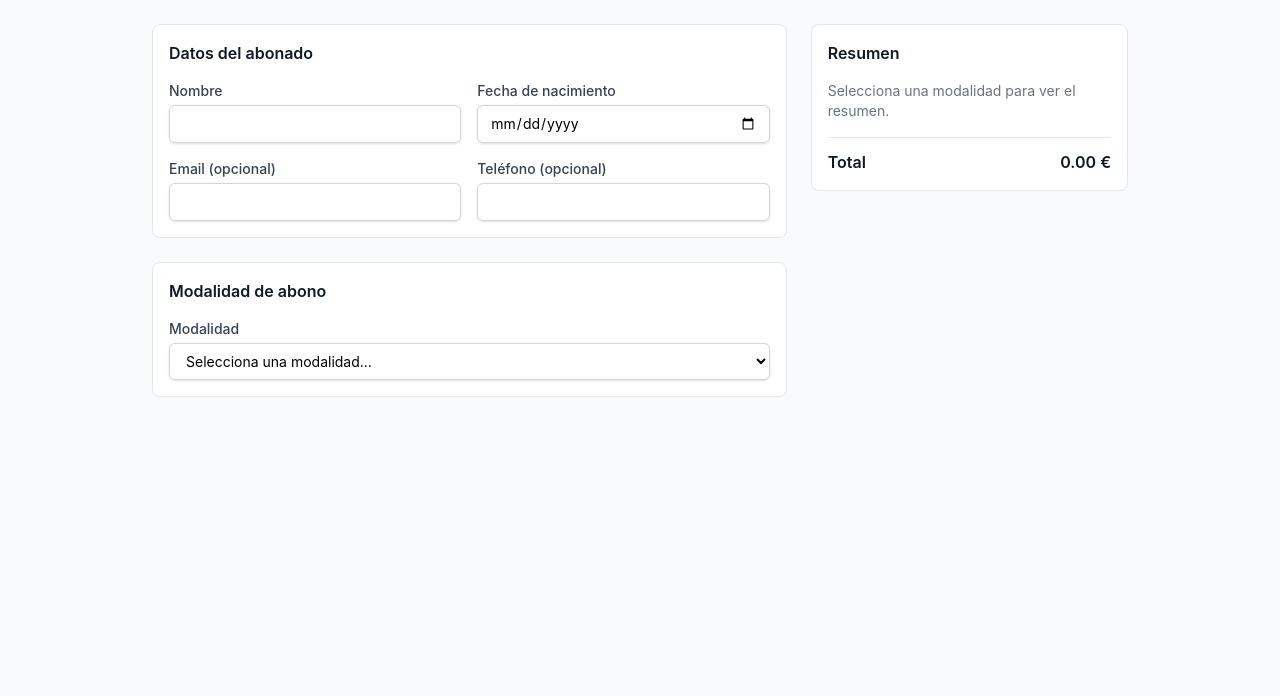
Test case: QuoteForm (integración) › reproduce el caso dorado de principio a fin: SM + Lunes a Viernes + Abono Tarde + Familiar = 2.524,50 €
Select "Golf Son Muntaner (SM) — 4400 €" in the dropdown labelled "Modalidad" at (469, 362), box [169, 343, 770, 380]
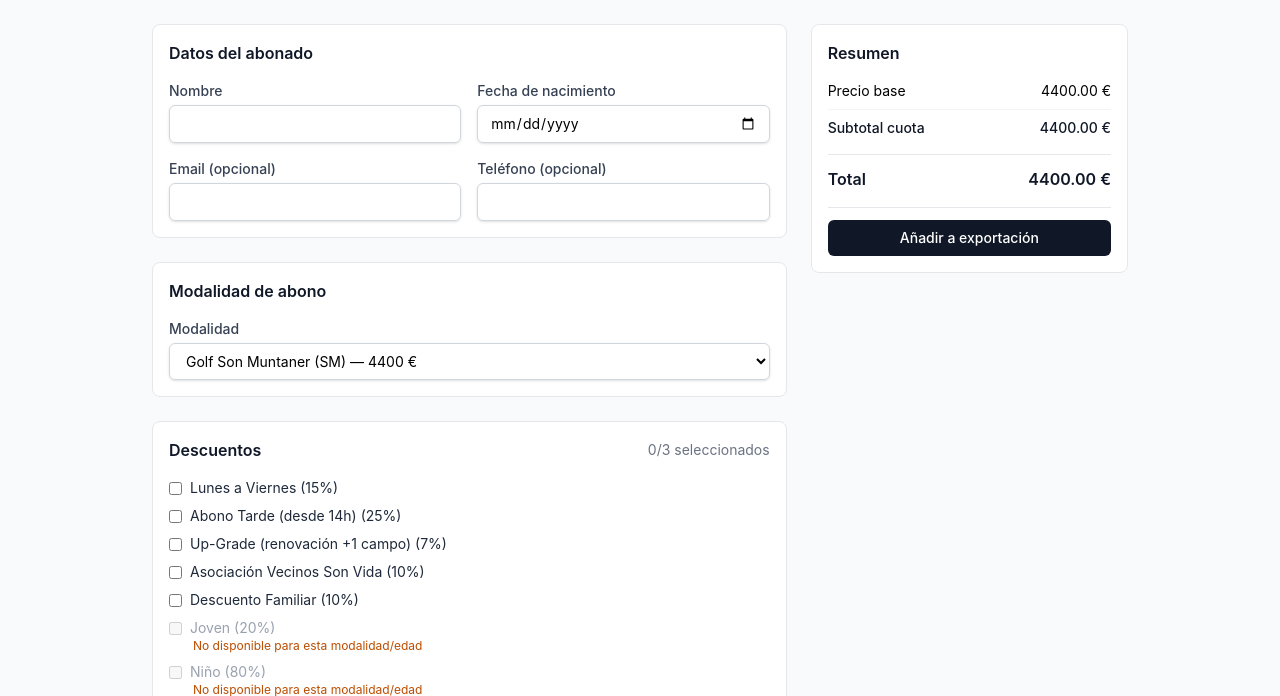
Click the checkbox labelled "Lunes a Viernes (15%)".
click(176, 488)  # box [169, 482, 182, 494]
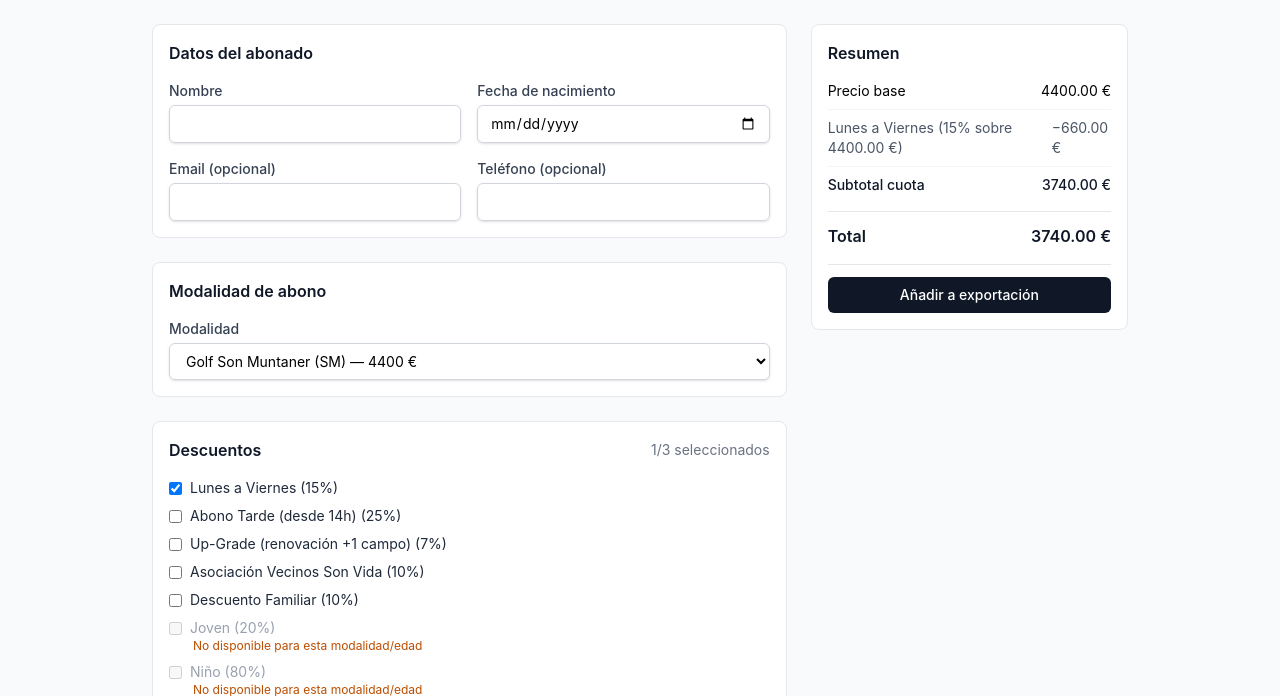
Click the checkbox labelled "Abono Tarde (desde 14h) (25%)".
click(176, 516)  # box [169, 510, 182, 522]
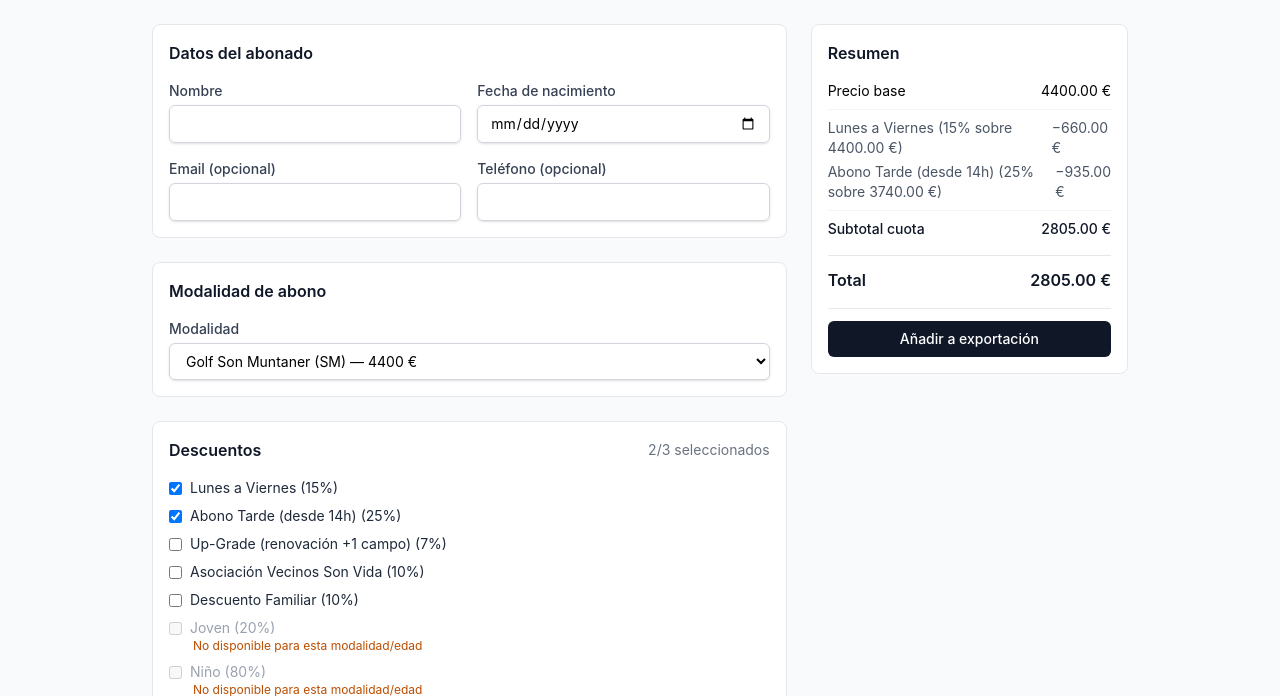
Click the checkbox labelled "Descuento Familiar (10%)".
click(176, 600)  # box [169, 594, 182, 606]
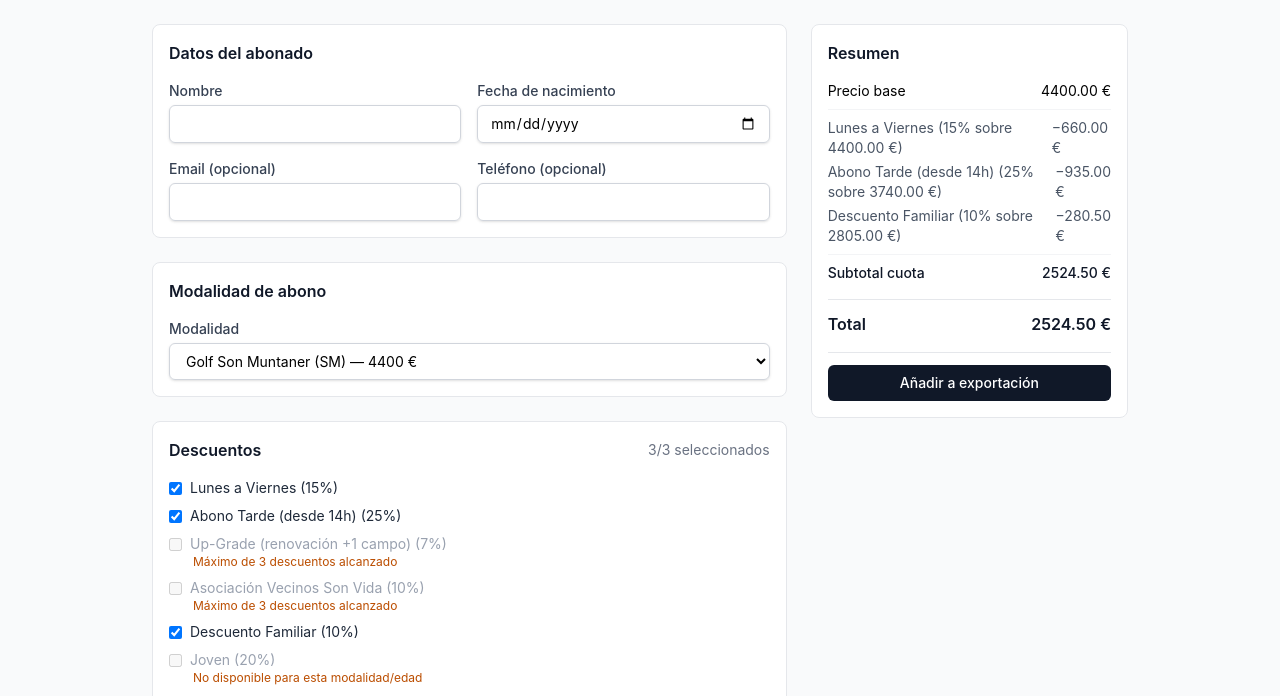
Now the text "2524.50 €" is shown 2 times, box [1042, 263, 1111, 283]; [1031, 312, 1111, 336]
